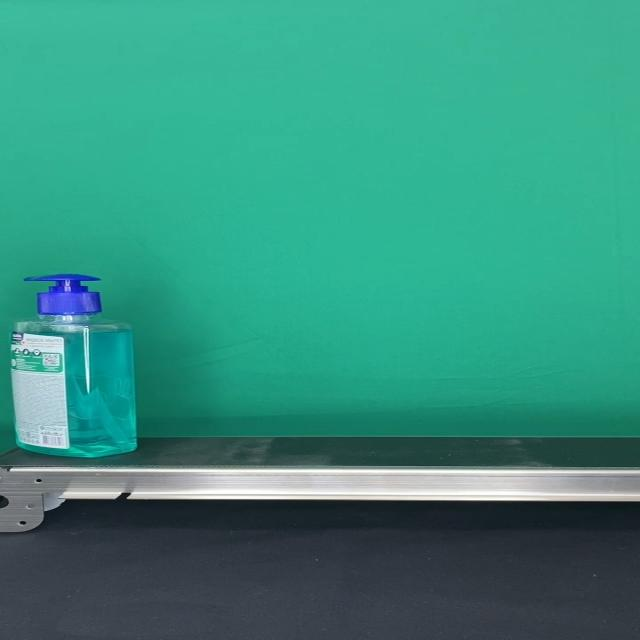Bottle: (8, 274, 138, 458)
Cap: (20, 274, 101, 316)
